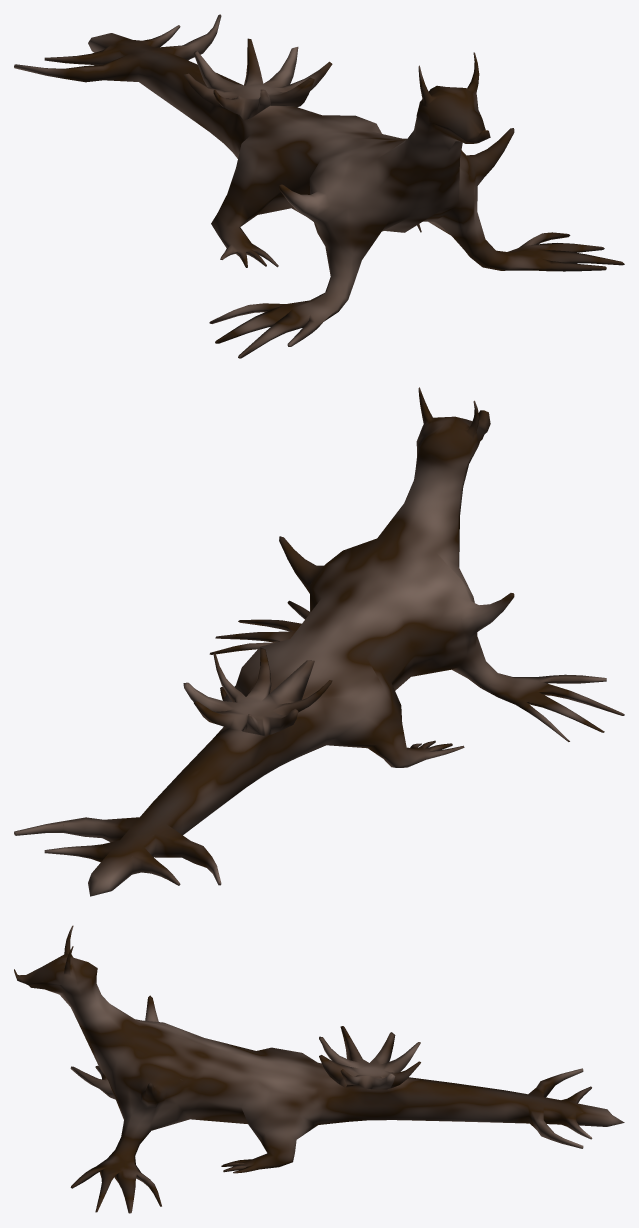
The model's file is TuguNabiru.fbx.
3 views of the same model, one above another, from view 1: azimuth 30°, elevation 25°; view 2: azimuth 150°, elevation 25°; view 3: azimuth 270°, elevation 25° (orthographic). The views are drawn at different scales.
Visible parts, largest first — view 1: Cube; view 2: Cube; view 3: Cube.
Part boxes in pixels (left/top/right/bottom): Cube: left=14, top=14, right=624, bottom=358; Cube: left=14, top=387, right=624, bottom=896; Cube: left=14, top=925, right=624, bottom=1213.
Size of the model in its own units: 875 by 568 by 1537.
Materials: 1 (1 with a texture image).
